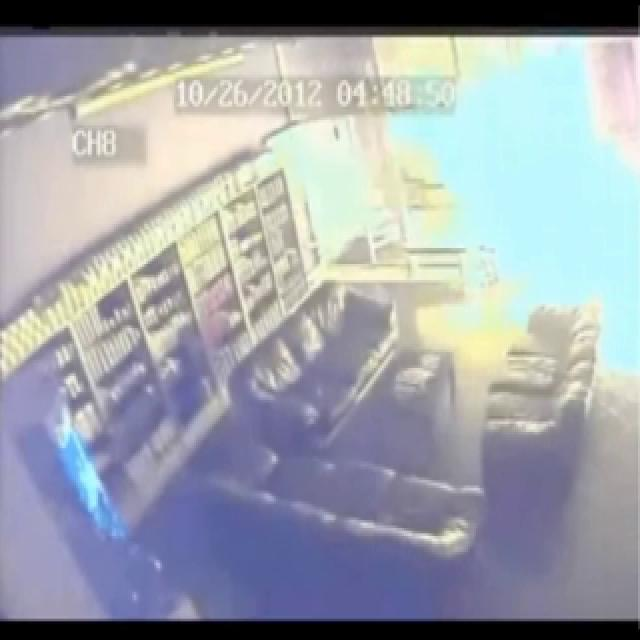arson: (353, 43, 640, 435)
